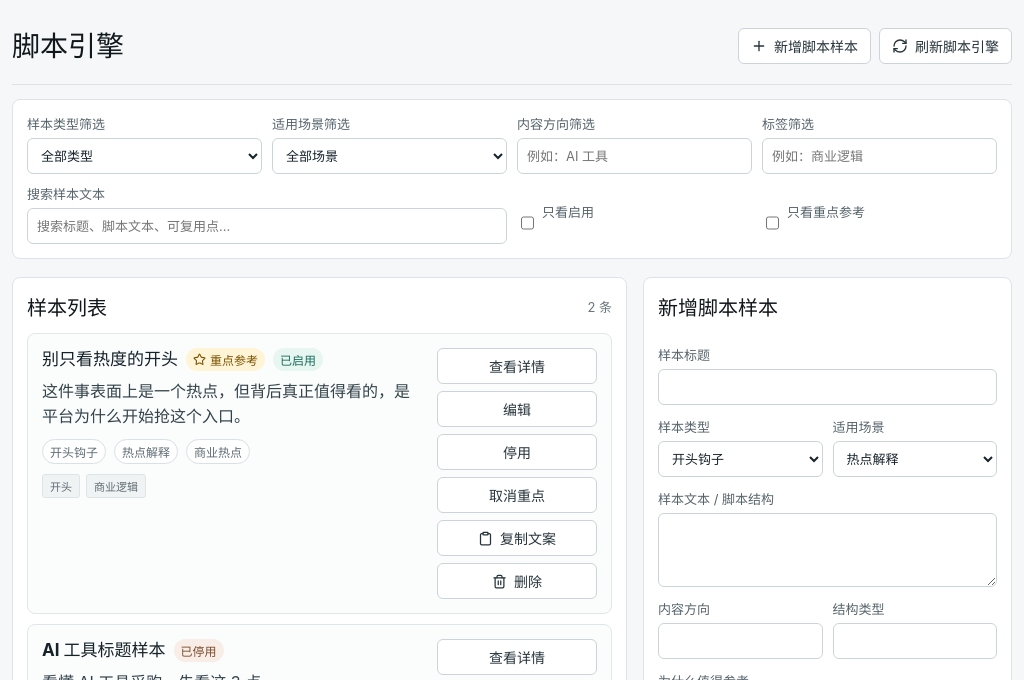
Test case: 脚本引擎页面 › 能筛选、搜索、查看详情和复制样本文案
Check: the heading "别只看热度的开头" is shown, box [42,348,178,371]
Select "标题" in the dropdown labelled "样本类型筛选". click: (144, 156)
box: [27,138,262,174]
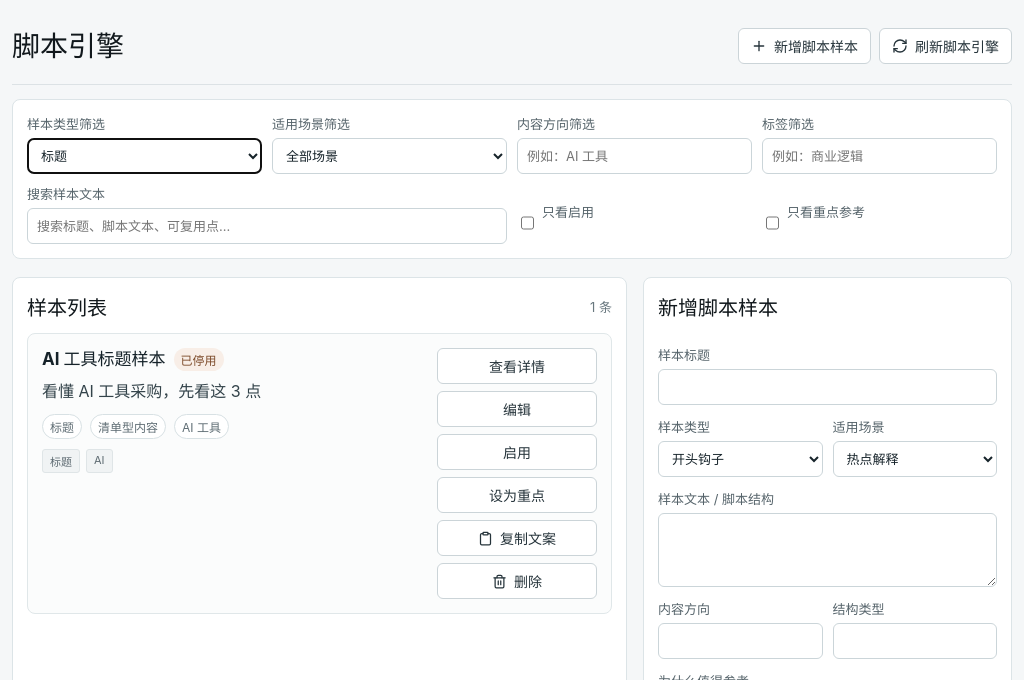
Check: the heading "AI 工具标题样本" is shown, box [42,348,166,371]
Check: the heading "别只看热度的开头" is gone
Select "全部类型" in the dropdown labelled "样本类型筛选". click: (144, 156)
box: [27,138,262,174]
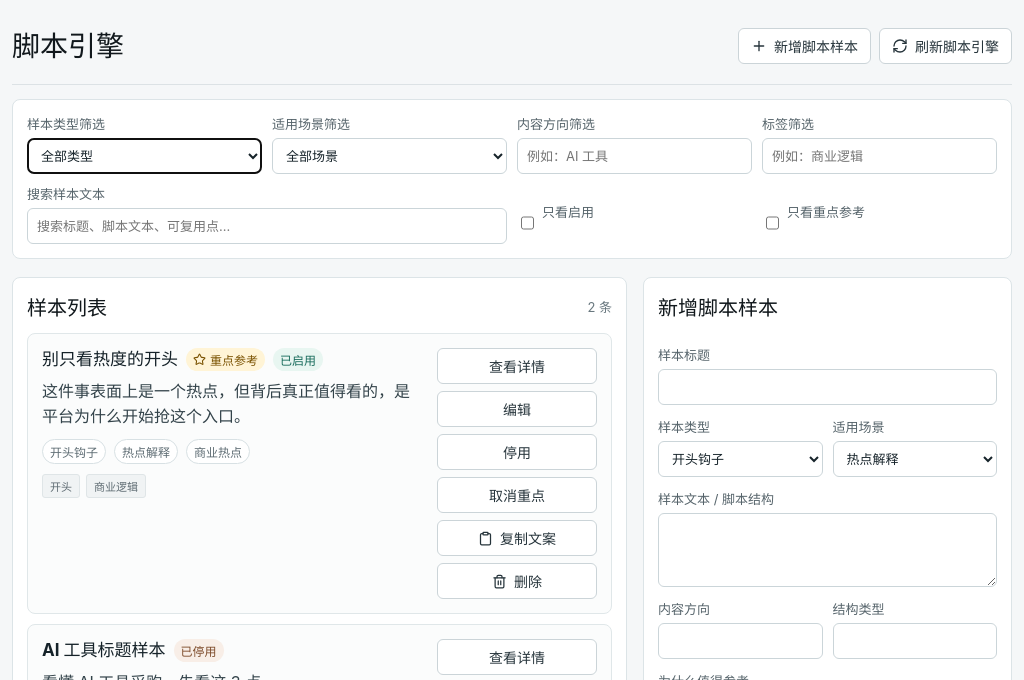
Type "平台为什么" into the field labelled "搜索样本文本". click: (267, 226)
box: [27,208,507,244]
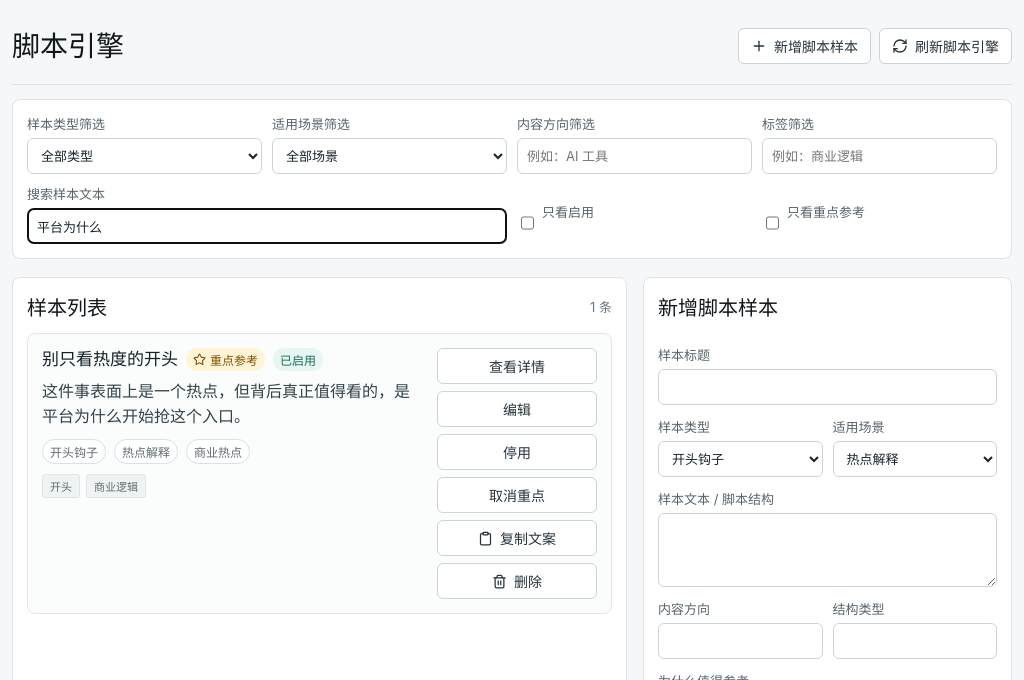
Check: the heading "别只看热度的开头" is shown, box [42,348,178,371]
Click the button "查看详情". click: (517, 366)
box: [437,348,597,384]
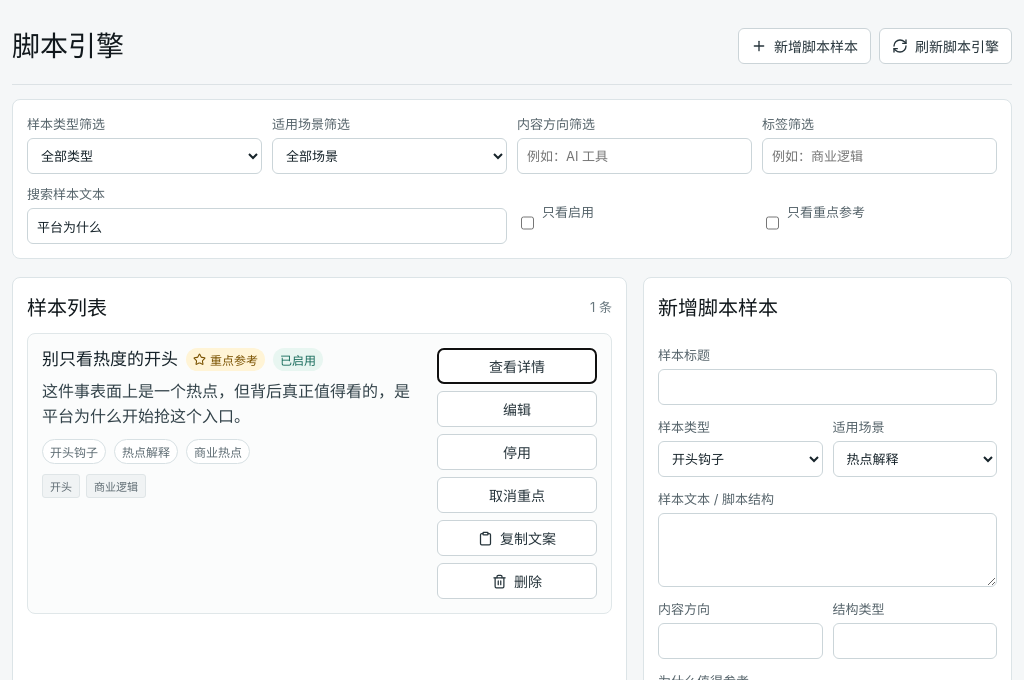
Click the button "复制文案". click: (517, 538)
box: [437,520,597,556]
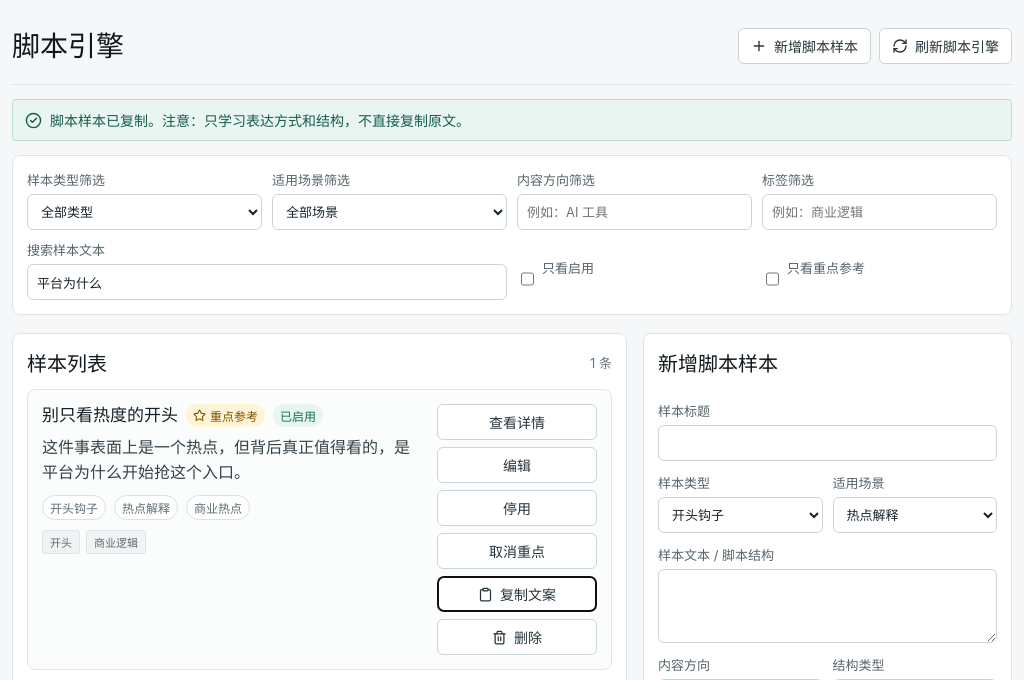
Check: the text "脚本样本已复制。注意：只学习表达方式和结构，不直接复制原文。" is shown, box [12,99,1012,141]
